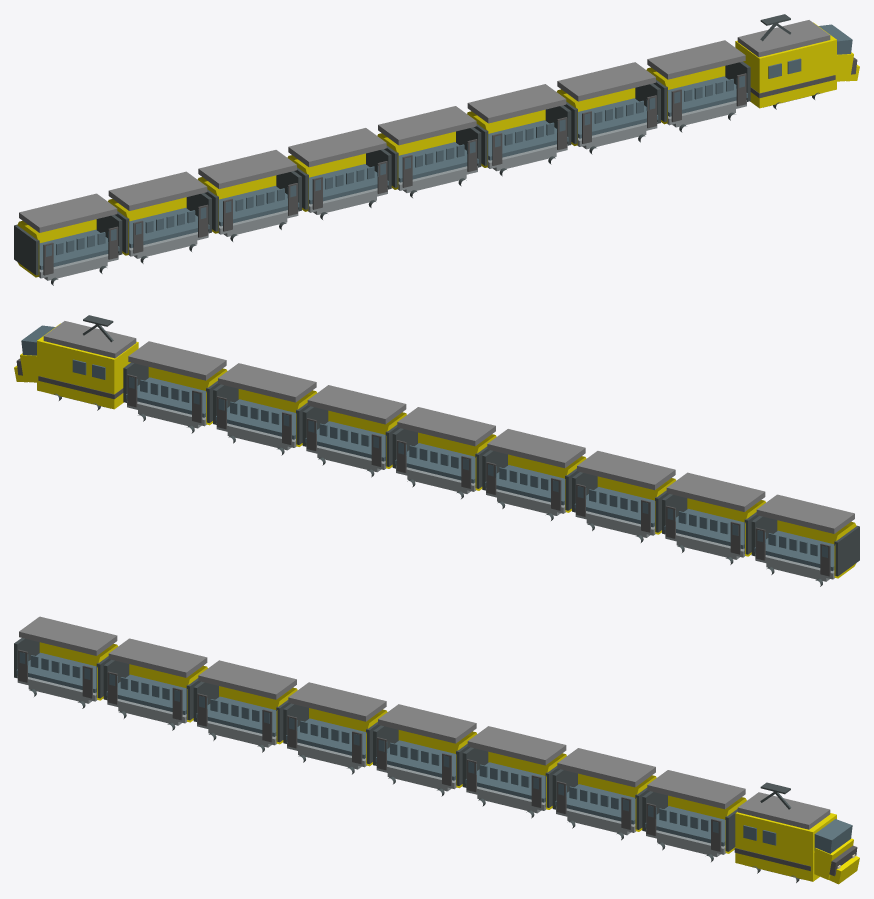
Rendered from regiojet-cz.glb.
The picture shows the model from 3 angles, top to bottom: view 1: azimuth 30°, elevation 25°; view 2: azimuth 150°, elevation 25°; view 3: azimuth 330°, elevation 25°; orthographic projection.
Parts seen in each view (by area): view 1: body_shell, regiojet-cz_car_3_roof, regiojet-cz_car_7_roof, regiojet-cz_car_8_roof, regiojet-cz_car_2_roof, regiojet-cz_car_6_roof, regiojet-cz_car_1_roof, regiojet-cz_car_5_roof, regiojet-cz_car_4_roof, roof, regiojet-cz_car_8_identity_stripe, regiojet-cz_car_4_identity_stripe (+23 smaller); view 2: body_shell, regiojet-cz_car_3_roof, regiojet-cz_car_7_roof, regiojet-cz_car_8_roof, regiojet-cz_car_2_roof, regiojet-cz_car_6_roof, regiojet-cz_car_1_roof, regiojet-cz_car_5_roof, regiojet-cz_car_4_roof, roof, regiojet-cz_car_8_identity_stripe, regiojet-cz_car_4_identity_stripe (+23 smaller); view 3: body_shell, regiojet-cz_car_3_roof, regiojet-cz_car_7_roof, regiojet-cz_car_4_roof, regiojet-cz_car_6_roof, regiojet-cz_car_1_roof, regiojet-cz_car_2_roof, regiojet-cz_car_5_roof, regiojet-cz_car_8_roof, roof, regiojet-cz_car_6_identity_stripe, regiojet-cz_car_2_identity_stripe (+24 smaller).
Boxes of the visible parts, bbox=[...] form: body_shell: bbox=[735, 22, 836, 108]; regiojet-cz_car_3_roof: bbox=[467, 84, 566, 123]; regiojet-cz_car_7_roof: bbox=[108, 171, 207, 210]; regiojet-cz_car_8_roof: bbox=[19, 193, 117, 232]; regiojet-cz_car_2_roof: bbox=[557, 62, 655, 101]; regiojet-cz_car_6_roof: bbox=[198, 150, 296, 189]; regiojet-cz_car_1_roof: bbox=[647, 40, 745, 79]; regiojet-cz_car_5_roof: bbox=[288, 128, 386, 167]; regiojet-cz_car_4_roof: bbox=[378, 106, 476, 145]; roof: bbox=[737, 20, 830, 57]; regiojet-cz_car_8_identity_stripe: bbox=[39, 229, 119, 269]; regiojet-cz_car_4_identity_stripe: bbox=[398, 142, 478, 182]; body_shell: bbox=[37, 323, 138, 409]; regiojet-cz_car_3_roof: bbox=[307, 385, 406, 424]; regiojet-cz_car_7_roof: bbox=[666, 472, 765, 511]; regiojet-cz_car_8_roof: bbox=[756, 494, 854, 533]; regiojet-cz_car_2_roof: bbox=[218, 363, 316, 402]; regiojet-cz_car_6_roof: bbox=[577, 451, 675, 490]; regiojet-cz_car_1_roof: bbox=[128, 341, 226, 380]; regiojet-cz_car_5_roof: bbox=[487, 429, 585, 468]; regiojet-cz_car_4_roof: bbox=[397, 407, 495, 446]; roof: bbox=[43, 321, 136, 358]; regiojet-cz_car_8_identity_stripe: bbox=[754, 530, 834, 570]; regiojet-cz_car_4_identity_stripe: bbox=[395, 443, 475, 483]; body_shell: bbox=[735, 812, 836, 881]; regiojet-cz_car_3_roof: bbox=[467, 726, 566, 765]; regiojet-cz_car_7_roof: bbox=[108, 638, 207, 677]; regiojet-cz_car_4_roof: bbox=[378, 704, 476, 743]; regiojet-cz_car_6_roof: bbox=[198, 660, 296, 699]; regiojet-cz_car_1_roof: bbox=[647, 770, 745, 809]; regiojet-cz_car_2_roof: bbox=[557, 748, 655, 787]; regiojet-cz_car_5_roof: bbox=[288, 682, 386, 721]; regiojet-cz_car_8_roof: bbox=[19, 616, 117, 655]; roof: bbox=[737, 792, 830, 829]; regiojet-cz_car_6_identity_stripe: bbox=[196, 696, 276, 736]; regiojet-cz_car_2_identity_stripe: bbox=[555, 784, 635, 824].
Bounding box in the file's own units: 14.26 × 1.32 × 0.791.
